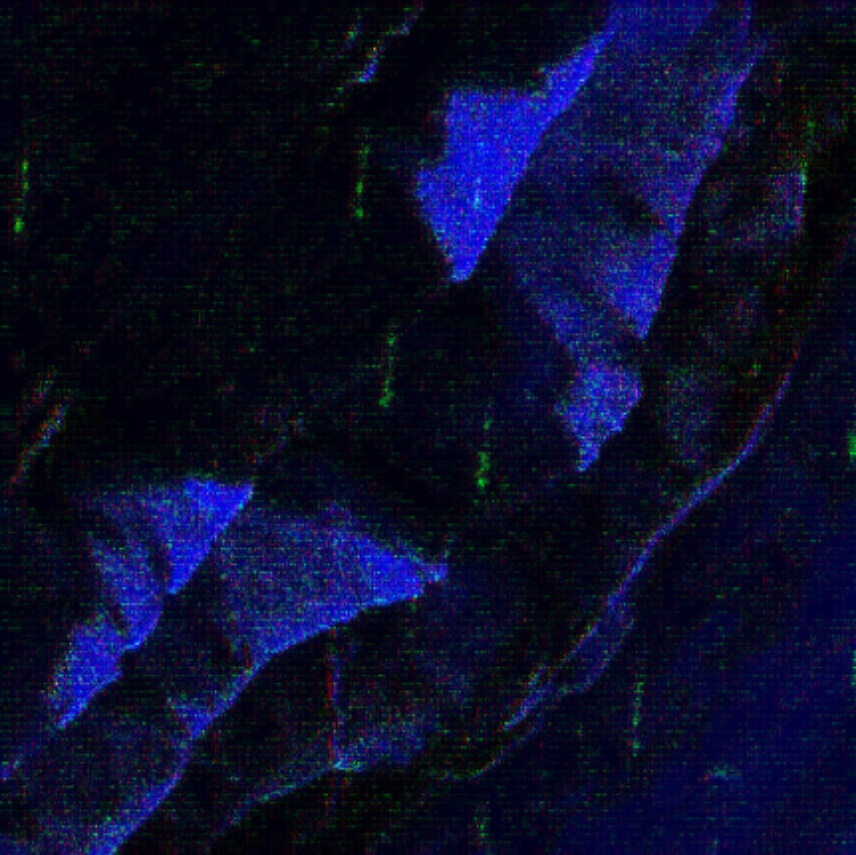rip_current: (121, 153, 632, 615)
